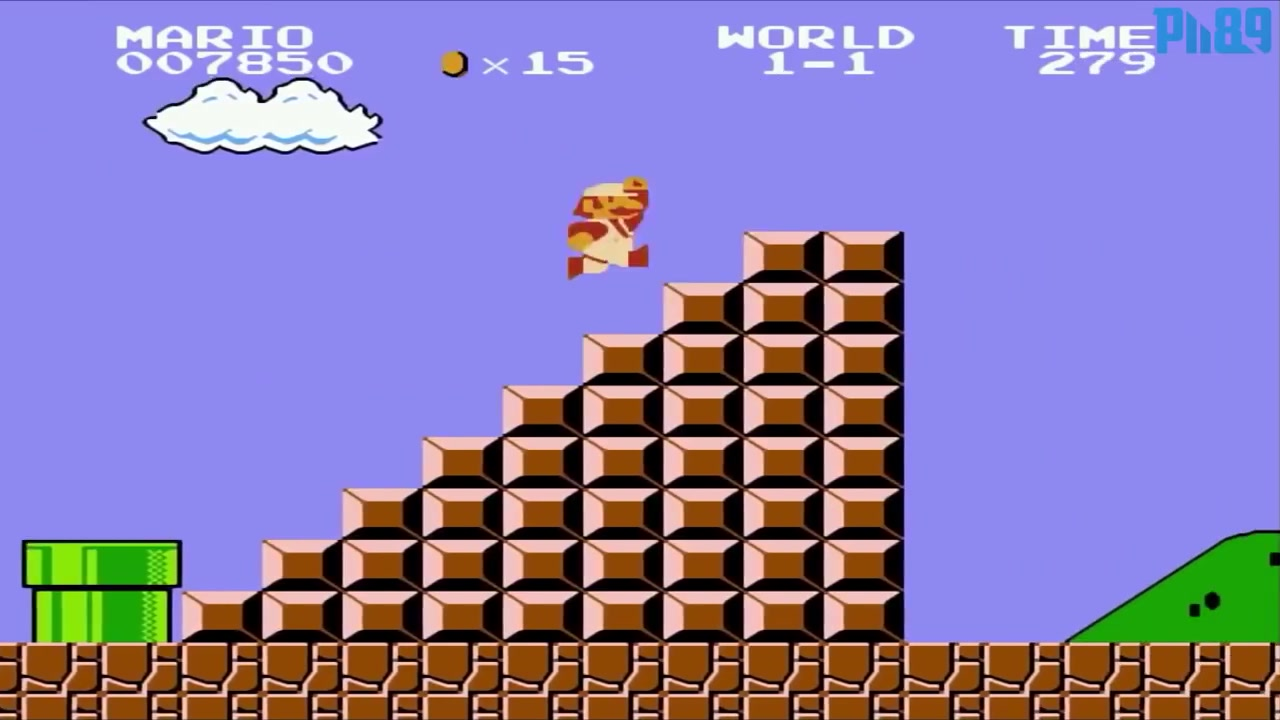mario: (555, 156, 661, 279)
